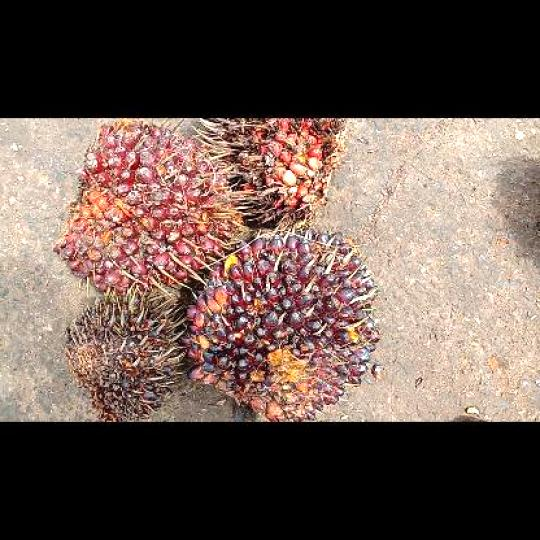kurang masak: (181, 226, 382, 420)
masak: (50, 117, 237, 298)
terlalu masak: (193, 118, 350, 230)
